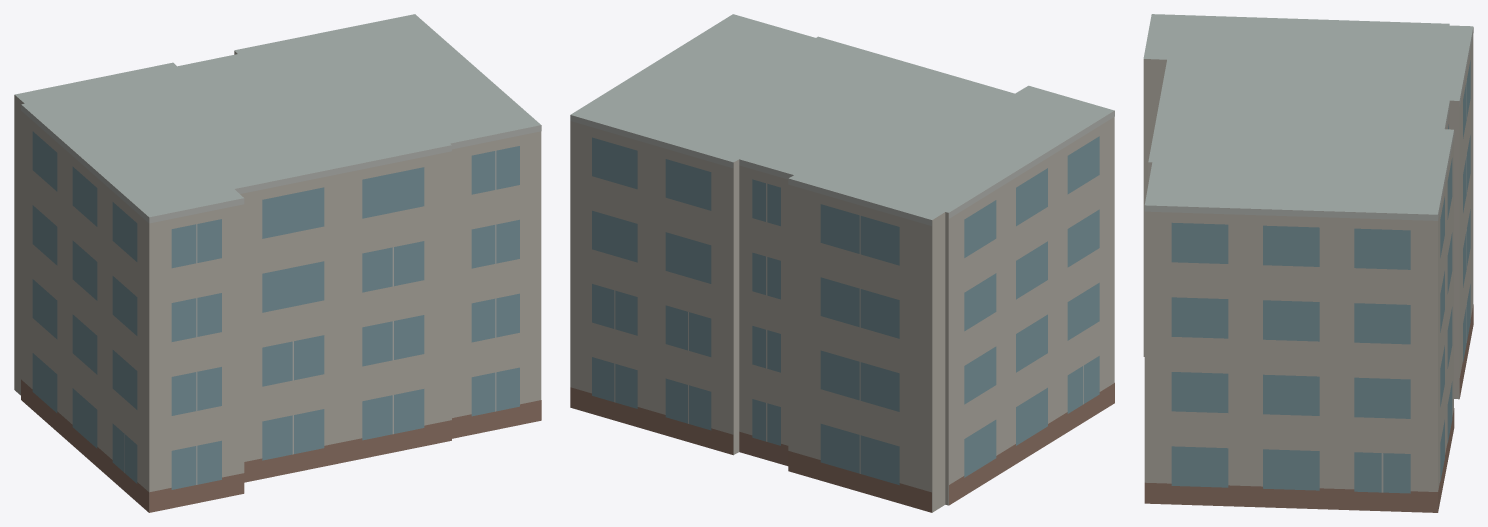
File: survey-upis-32841090.glb
The picture shows the model from 3 angles, left to right: view 1: azimuth 30°, elevation 25°; view 2: azimuth 150°, elevation 25°; view 3: azimuth 270°, elevation 25°; orthographic projection.
Parts seen in each view (by area): view 1: survey-upis-32841090.tmp; view 2: survey-upis-32841090.tmp; view 3: survey-upis-32841090.tmp.
Boxes of the visible parts, x1=… form: survey-upis-32841090.tmp: x1=14, y1=14, x2=541, y2=512; survey-upis-32841090.tmp: x1=570, y1=14, x2=1114, y2=512; survey-upis-32841090.tmp: x1=1143, y1=14, x2=1473, y2=512.
Bounding box in the file's own units: 16.9 × 11.7 × 11.75.
